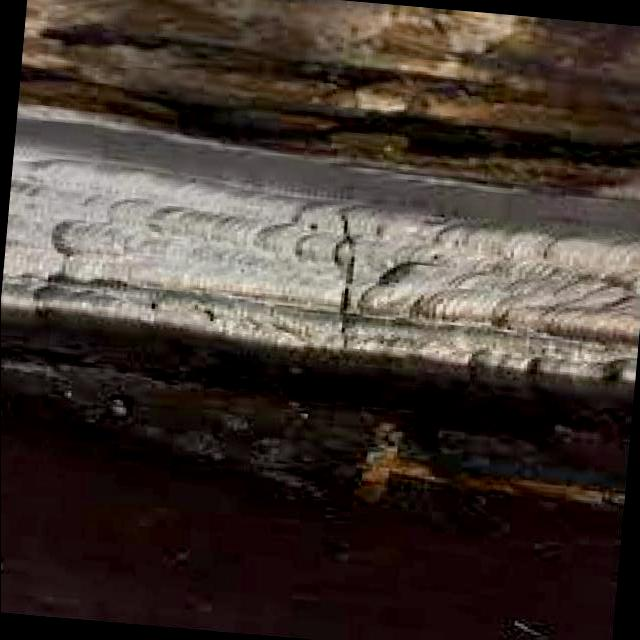defect: (335, 208, 363, 359)
